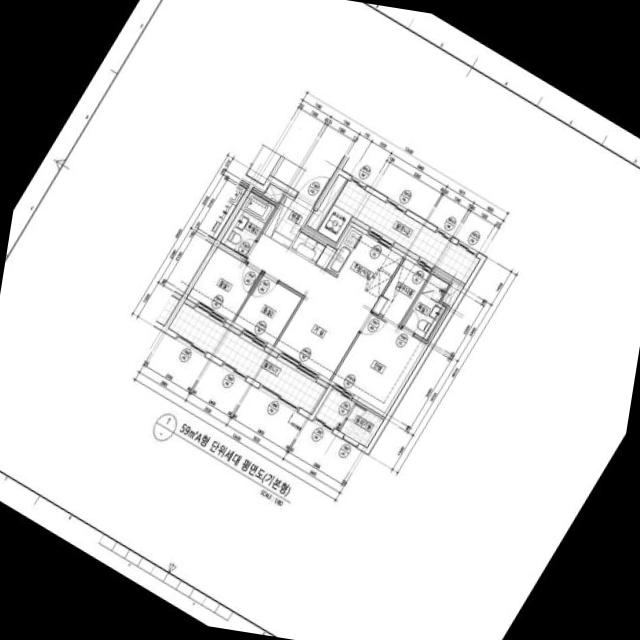background: (0, 0, 640, 640)
space_balconi: (168, 303, 326, 414), (317, 180, 479, 284), (315, 389, 354, 430)
space_bedroom: (329, 312, 428, 417), (186, 247, 260, 324), (232, 274, 301, 348)
space_dressroom: (379, 255, 430, 327)
space_front: (262, 193, 314, 248)
space_kitchen: (326, 222, 404, 301)
space_living_room: (246, 232, 376, 382)
space_other: (306, 175, 346, 230), (252, 183, 284, 203), (441, 280, 463, 306)
space_outdoor_room: (339, 403, 383, 447)
space_toilet: (220, 191, 275, 257), (401, 274, 449, 340)
